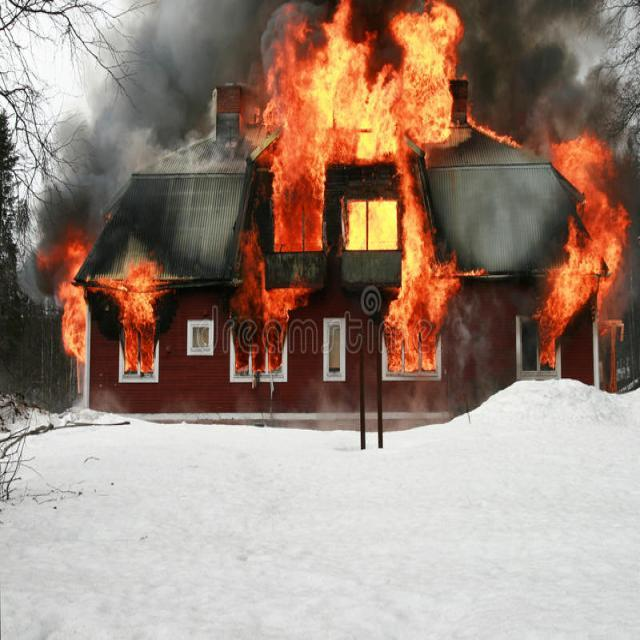Fire: (268, 10, 452, 256), (540, 136, 628, 362), (384, 260, 450, 376), (232, 276, 288, 372), (50, 235, 88, 365), (121, 260, 157, 372)
Smoke: (480, 5, 612, 116), (108, 5, 210, 140)
